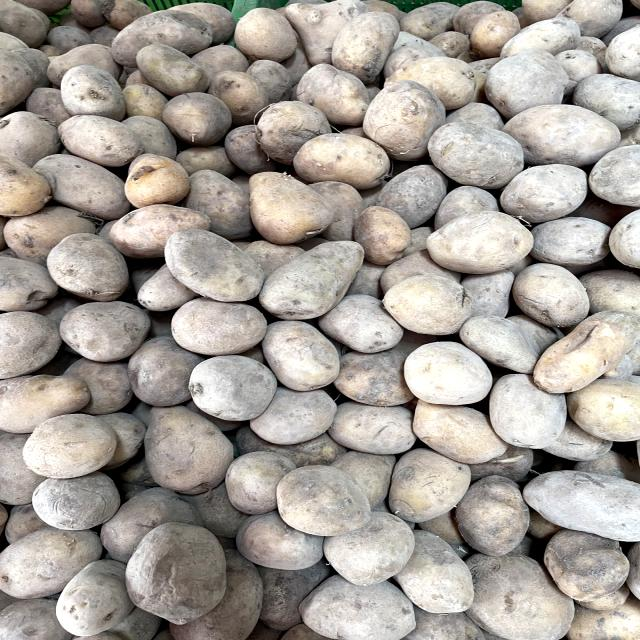potato: (122, 511, 234, 630), (260, 234, 373, 323), (267, 455, 381, 540), (158, 221, 266, 308), (415, 205, 545, 277), (531, 307, 636, 396), (16, 404, 125, 488), (384, 443, 487, 528), (242, 164, 350, 242), (180, 352, 292, 426), (53, 288, 155, 368), (30, 223, 138, 296), (287, 121, 397, 191), (426, 115, 526, 190), (325, 4, 407, 79), (48, 109, 147, 168), (131, 39, 216, 95)
